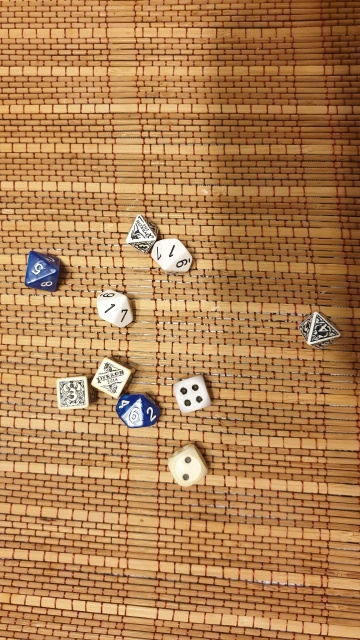d10-1: (90, 283, 135, 333), (148, 236, 198, 276)
d10-5: (21, 247, 66, 296)
d10-6: (112, 390, 164, 434)
d6-2: (161, 442, 215, 492)
d6-4: (172, 370, 212, 417)
d6p-1: (88, 357, 135, 400)
d6p-3: (52, 372, 90, 412)
d8p-1: (124, 214, 162, 253)
d8p-4: (295, 309, 340, 353)
